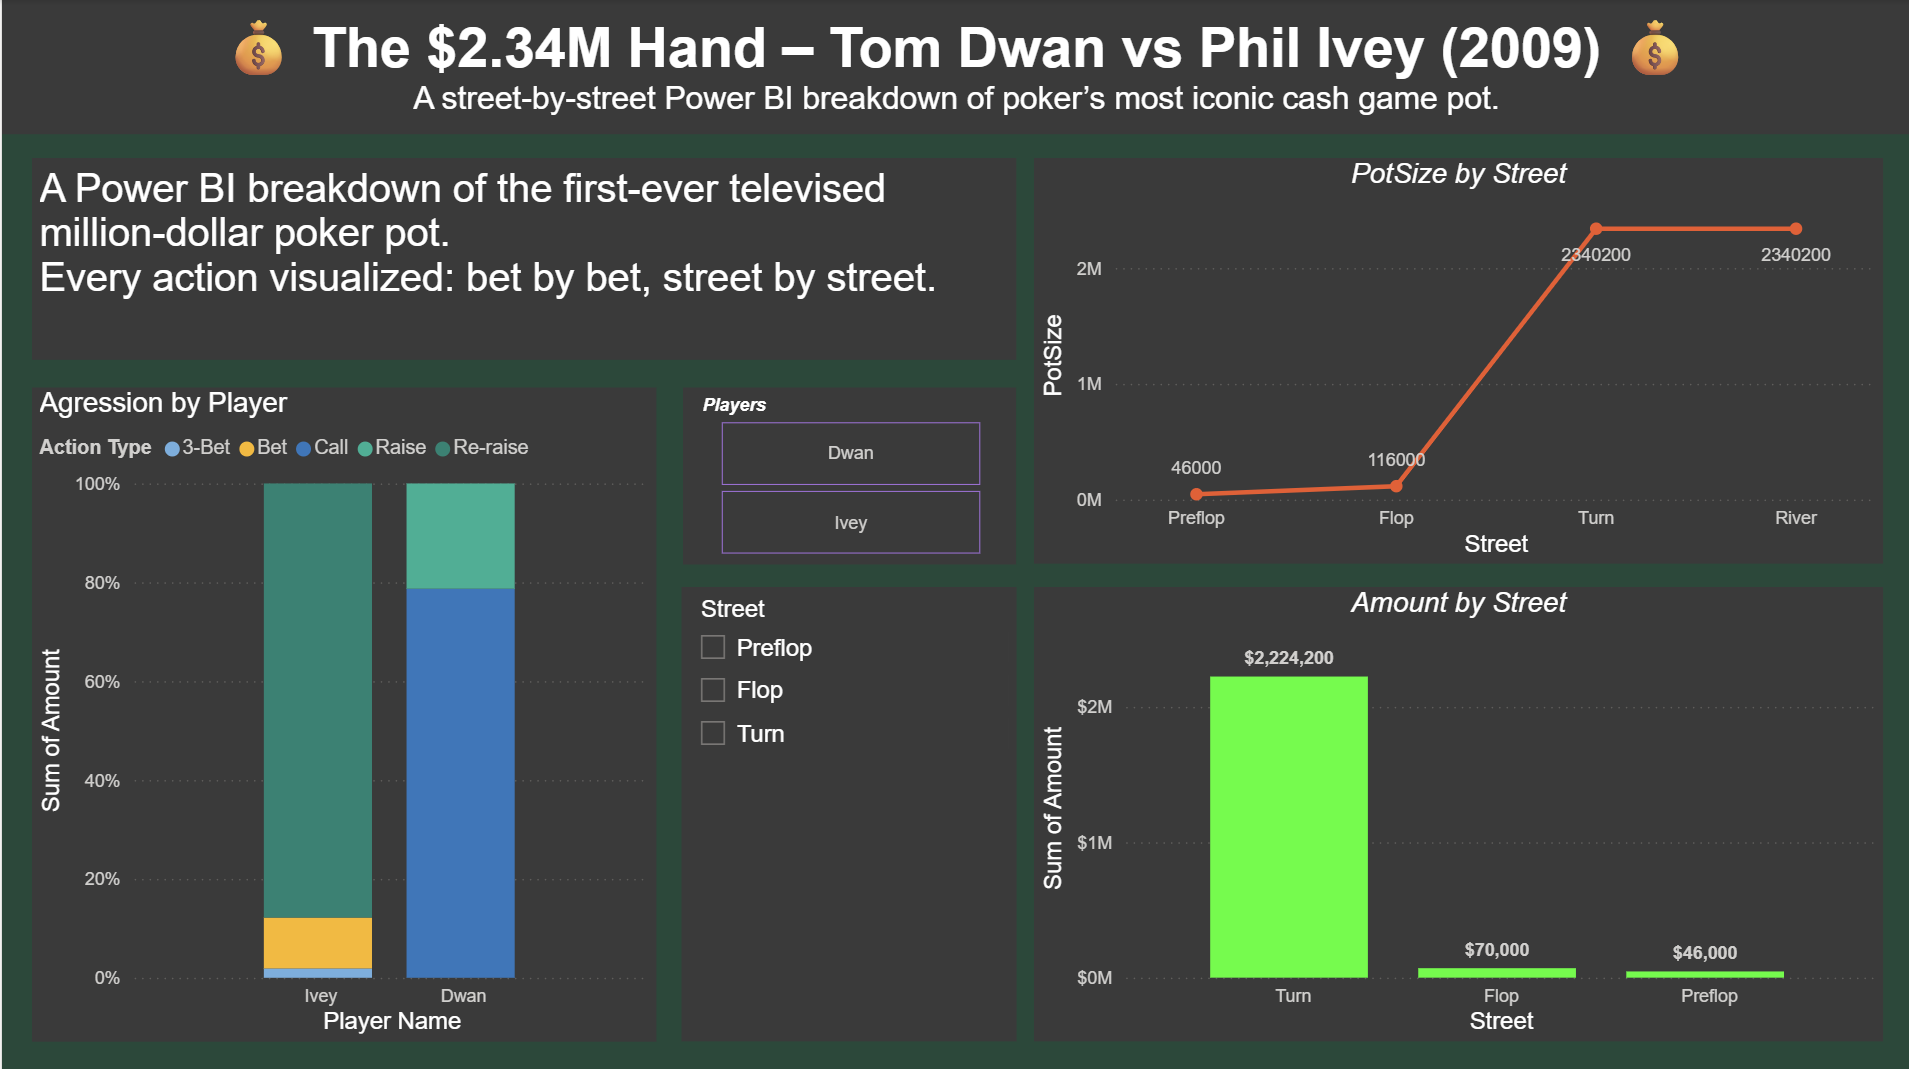

What the dashboard file says about the page in this screenshot:
{"tool":"powerbi","page":{"name":"Page 1","canvas":[1280,720],"ordinal":0},"visuals":[{"type":"clusteredColumnChart","title":"Amount by Street","fields":{"Category":["Sheet1.Street"],"Y":["Sum(Sheet1.Amount)"]},"box":[692.3,393.8,569.2,304.6],"z":0},{"type":"lineChart","title":"PotSize by Street","fields":{"Y":["Max(Sheet1.PotSize)"],"Category":["Sheet1.Street"]},"box":[692.3,106.2,569.2,272.3],"z":1000},{"type":"textbox","box":[20,106.2,660,135.4],"z":2000},{"type":"slicer","fields":{"Values":["Sheet1.Street"]},"box":[455.4,393.8,224.6,304.6],"z":3000},{"type":"slicer","fields":{"Values":["Sheet1.Player Name"]},"box":[456.9,260,223.1,118.5],"z":4000},{"type":"hundredPercentStackedColumnChart","title":"Agression by Player","fields":{"Category":["Sheet1.Player Name"],"Y":["Sum(Sheet1.Amount)"],"Series":["Sheet1.Action Type"]},"box":[20,260,418.5,438.5],"z":5000},{"type":"textbox","box":[0,0,1280,90.8],"z":6000}]}

Visuals, with their boxes in screenshot pixels (x1, y1, x2, y2), scaled from the page's 1280x720 canvas onto the 1909x1069 screenshot:
"Amount by Street" clusteredColumnChart: <bbox>1033, 585, 1881, 1037</bbox>
"PotSize by Street" lineChart: <bbox>1033, 158, 1881, 562</bbox>
textbox: <bbox>30, 158, 1014, 359</bbox>
slicer - Sheet1.Street: <bbox>679, 585, 1014, 1037</bbox>
slicer - Sheet1.Player Name: <bbox>681, 386, 1014, 562</bbox>
"Agression by Player" hundredPercentStackedColumnChart: <bbox>30, 386, 654, 1037</bbox>
textbox: <bbox>0, 0, 1908, 135</bbox>
